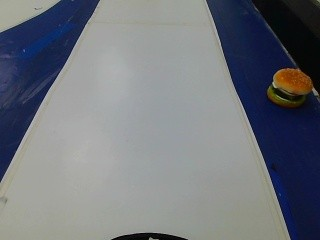burger: (262, 62, 315, 117)
